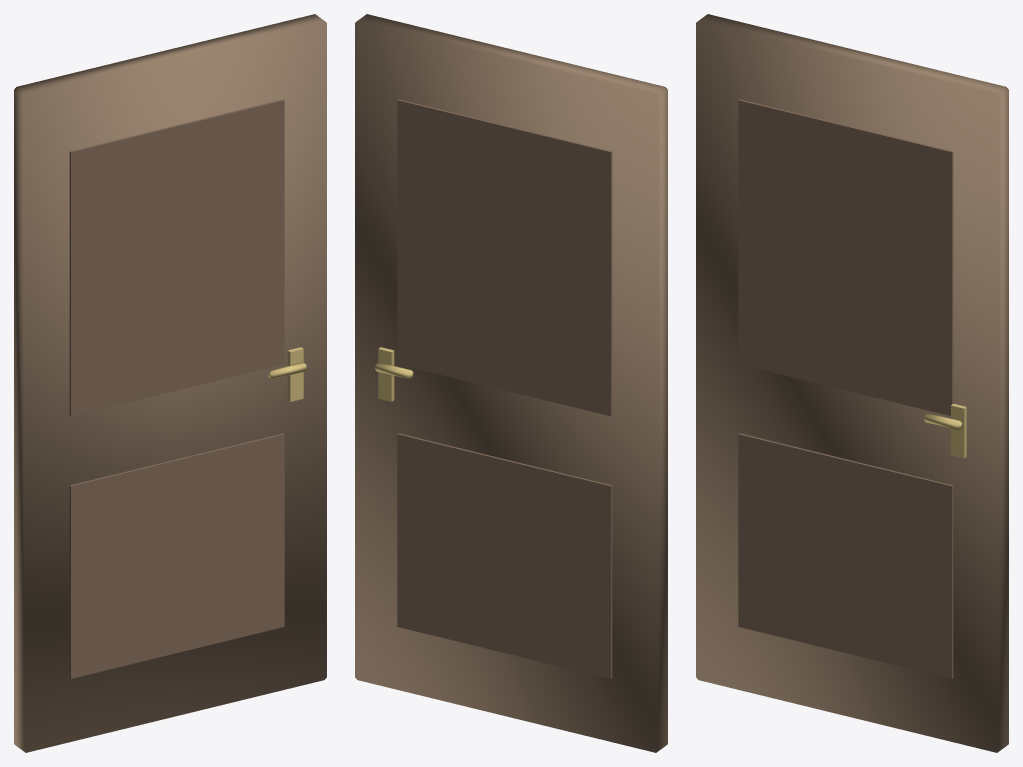
File: door_hinged_panel.glb
3 renders of one model, left to right at view 1: azimuth 30°, elevation 25°; view 2: azimuth 150°, elevation 25°; view 3: azimuth 330°, elevation 25°, orthographic.
Visible parts, largest first — view 1: DoorLeaf, UpperPanel, LowerPanel, Escutcheon_-0.055; view 2: DoorLeaf, UpperPanel, LowerPanel, Escutcheon_0.055; view 3: DoorLeaf, UpperPanel, LowerPanel, Escutcheon_-0.055.
Boxes of the visible parts, box(x1,y1,x2,y2) form: DoorLeaf: box(14, 14, 326, 752); UpperPanel: box(69, 99, 284, 416); LowerPanel: box(69, 433, 284, 678); Escutcheon_-0.055: box(287, 347, 303, 401); DoorLeaf: box(355, 14, 667, 752); UpperPanel: box(397, 99, 612, 416); LowerPanel: box(397, 433, 612, 678); Escutcheon_0.055: box(378, 347, 394, 401); DoorLeaf: box(696, 14, 1008, 752); UpperPanel: box(738, 99, 953, 415); LowerPanel: box(738, 433, 953, 678); Escutcheon_-0.055: box(951, 403, 966, 458).
Size of the model in its own units: 1.02 by 2.12 by 0.176.
